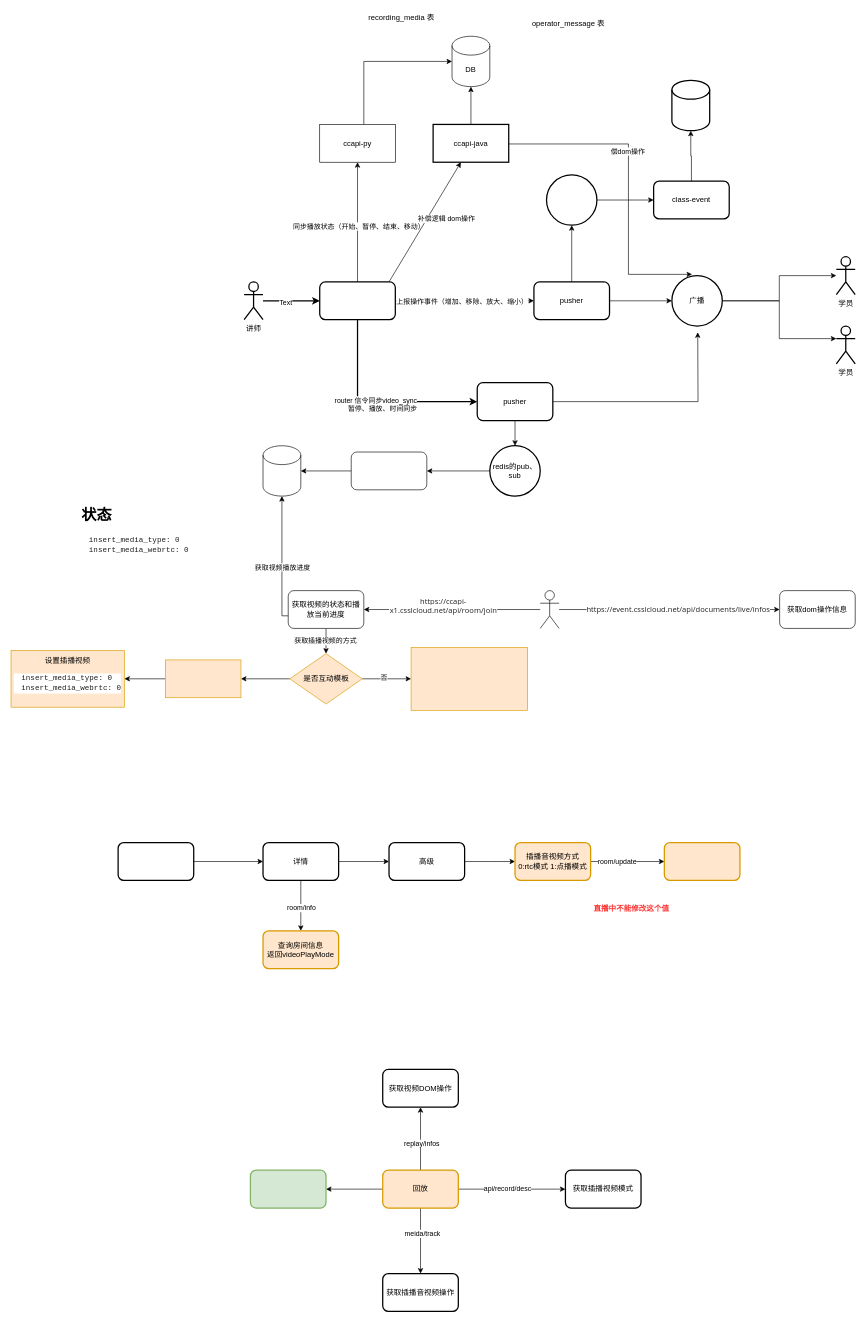
The diagram is 867 pixels wide and 1322 high, and some of its shapes have lost their labels. Here are the shapes that lost their labels. From the top down, the centre of each, then its label:
point (690, 105): mongo
point (571, 200): kafka
point (357, 300): 打开插播音视频
point (281, 470): redis
point (389, 470): collect 监听pub、sub 存入缓存
point (549, 609): 后进学员
point (203, 678): 房间的配置videoPlayMode
point (469, 678): 根据账号来判断 insert_media_type : 0 insert_media_webrtc : 0
point (155, 861): 直播间管理
point (701, 861): 更新房间信息 video_play_mode
point (287, 1188): 渲染播放插播音视频
